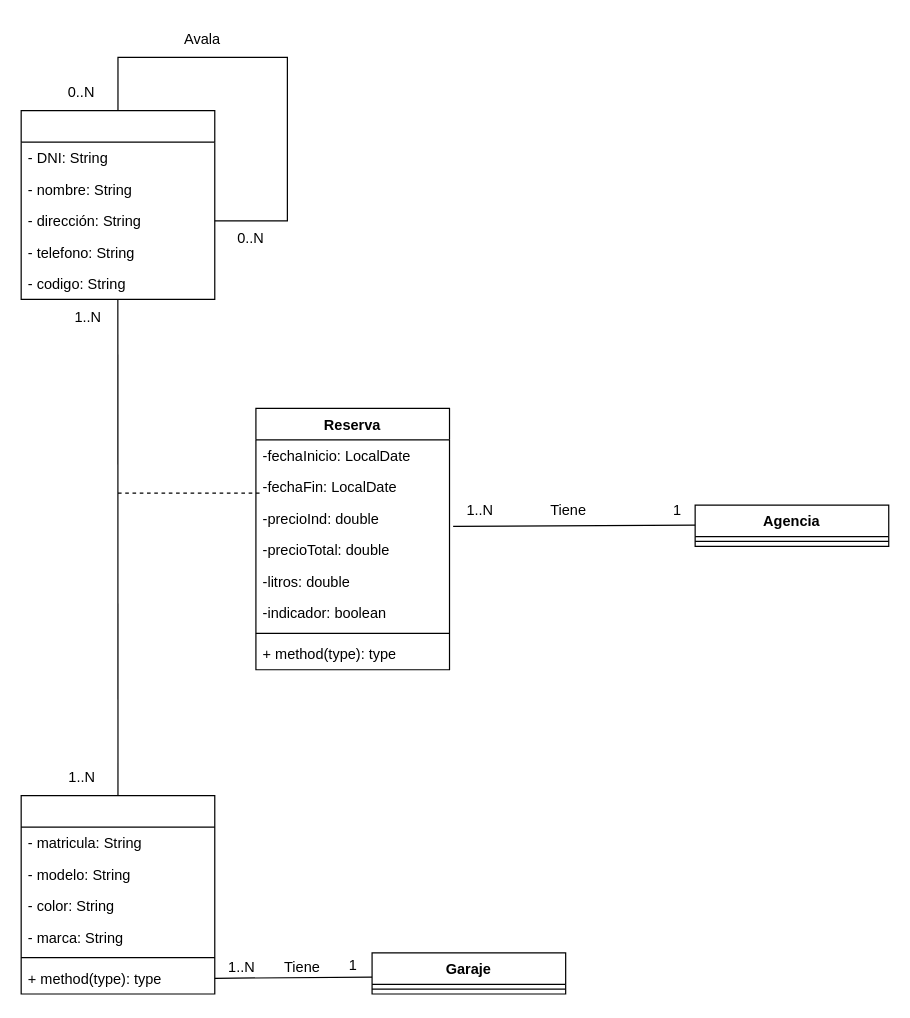
The diagram is 910 pixels wide and 1018 high, and some of its shapes have lost their labels. Each missing label, with the box of its shape:
Cliente: (20, 110, 215, 299)
Coche: (20, 794, 215, 994)
